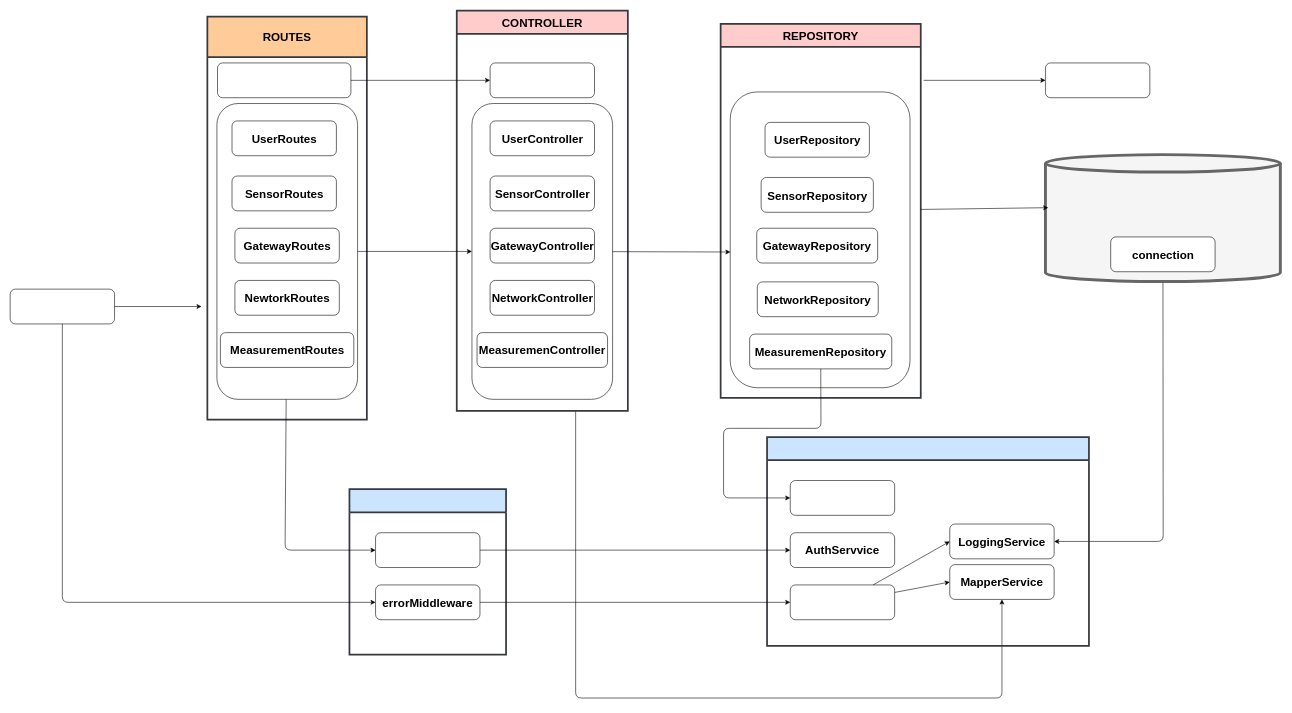
Some shapes in this 1292 by 713 pixel diagram are drawn without their labels. Here are the shapes that lost their labels. From the top down, the box of each, then its label:
(217, 62, 351, 98): AuthenticationRoutes
(490, 62, 594, 98): AuthController
(1045, 62, 1150, 98): utils
(1044, 153, 1282, 283): DB
(10, 289, 115, 324): app
(790, 480, 895, 515): StatsService
(375, 532, 480, 568): authMiddleware
(766, 436, 1090, 646): SERVICES
(348, 488, 507, 655): MIDDLEWARES
(790, 584, 895, 620): ErrorService
